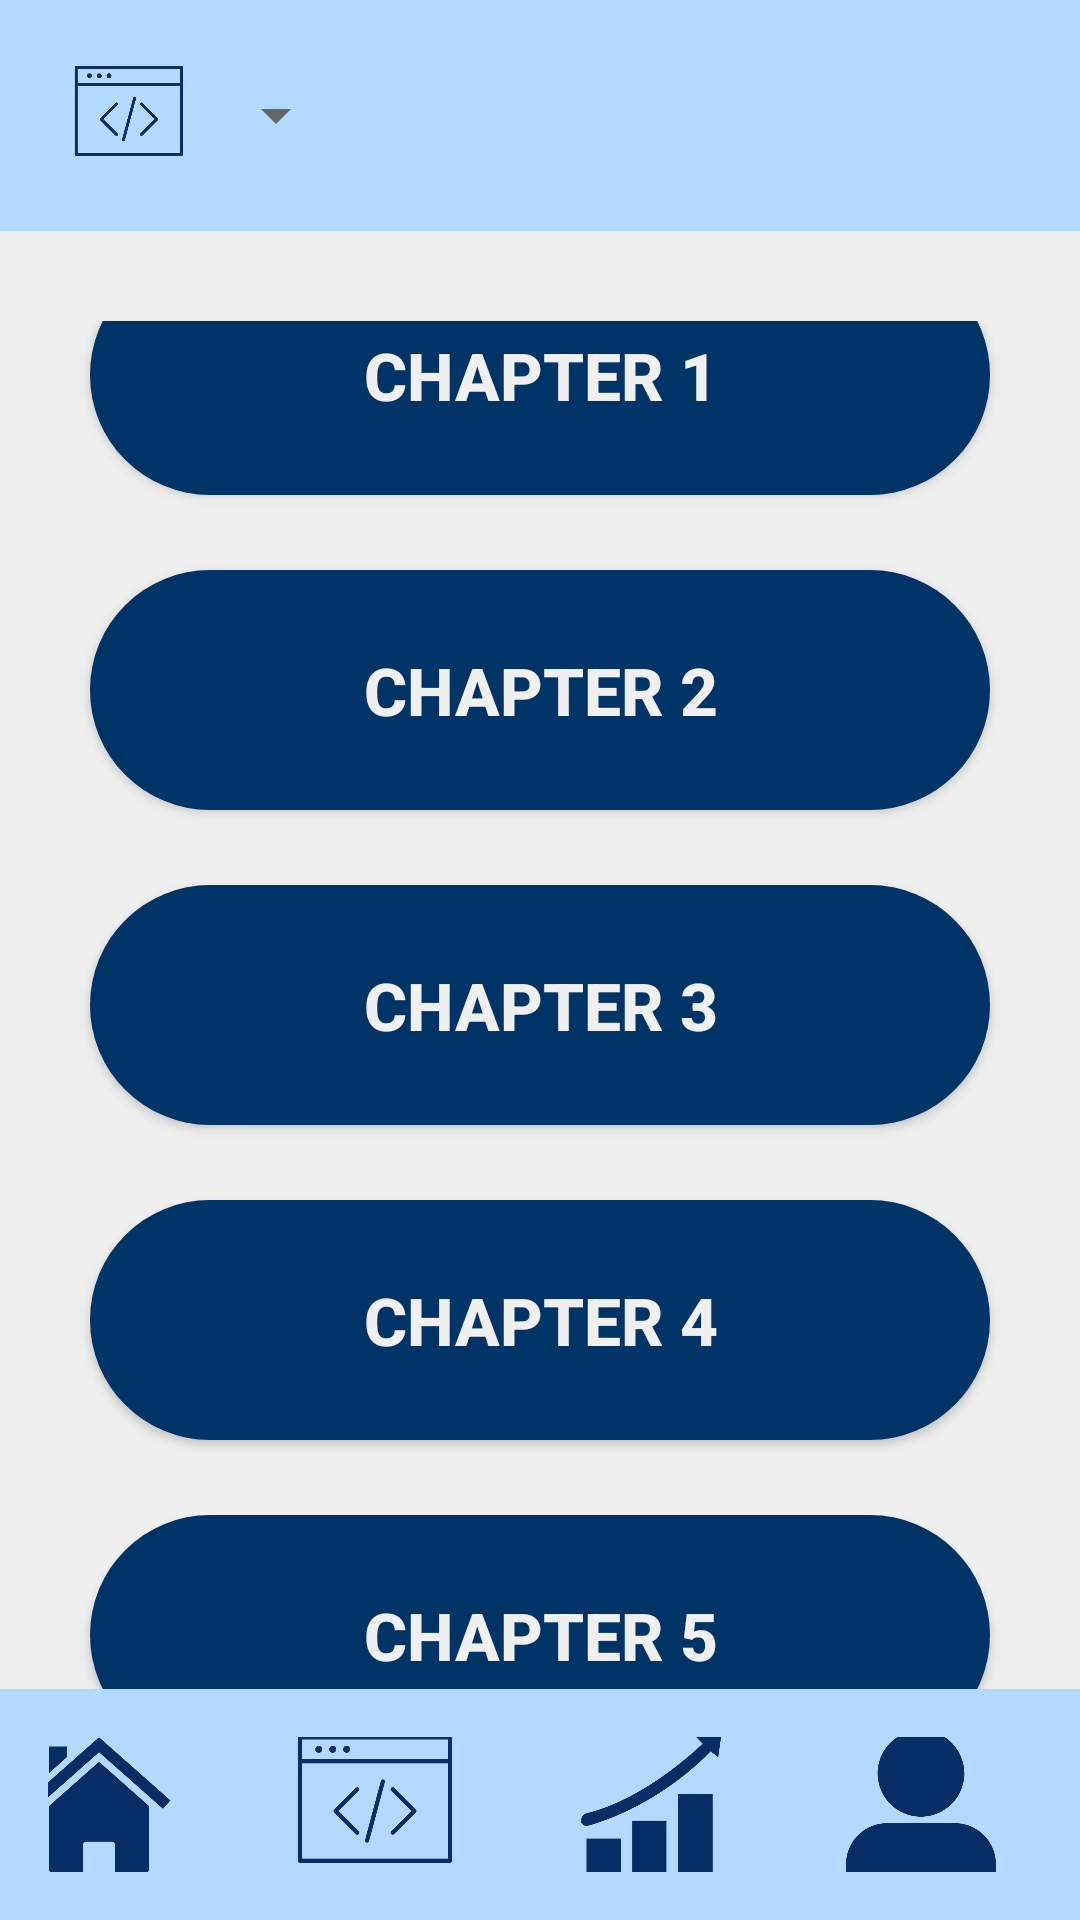

Icon click points for this 1080×1920 phone screenshot, format [x,y]:
code: [375,1800]
home: [109,1804]
profile: [921,1804]
stats: [651,1804]
